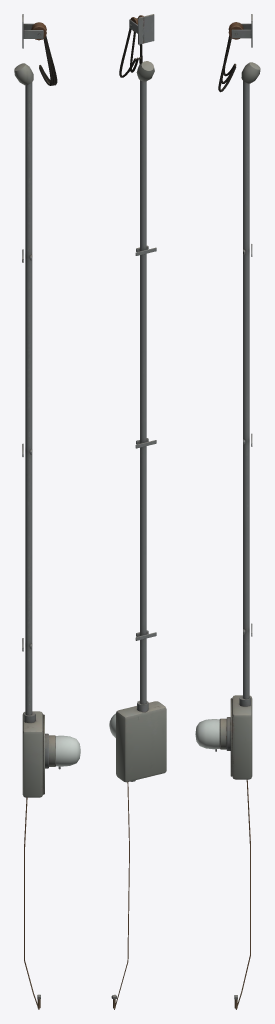
File: service_mast.glb
3 renders of one model, left to right at view 1: azimuth 90°, elevation 25°; view 2: azimuth 210°, elevation 25°; view 3: azimuth 270°, elevation 25°, orthographic. The views are drawn at different scales.
Parts seen in each view (by area): view 1: service_mast; view 2: service_mast; view 3: service_mast.
Boxes of the visible parts, bbox=[...] form: service_mast: bbox=[14, 14, 80, 1009]; service_mast: bbox=[109, 14, 166, 1009]; service_mast: bbox=[195, 14, 260, 1009].
Size of the model in its own units: 0.2973 by 5.94 by 0.3575.
2 materials, 2 textured.
